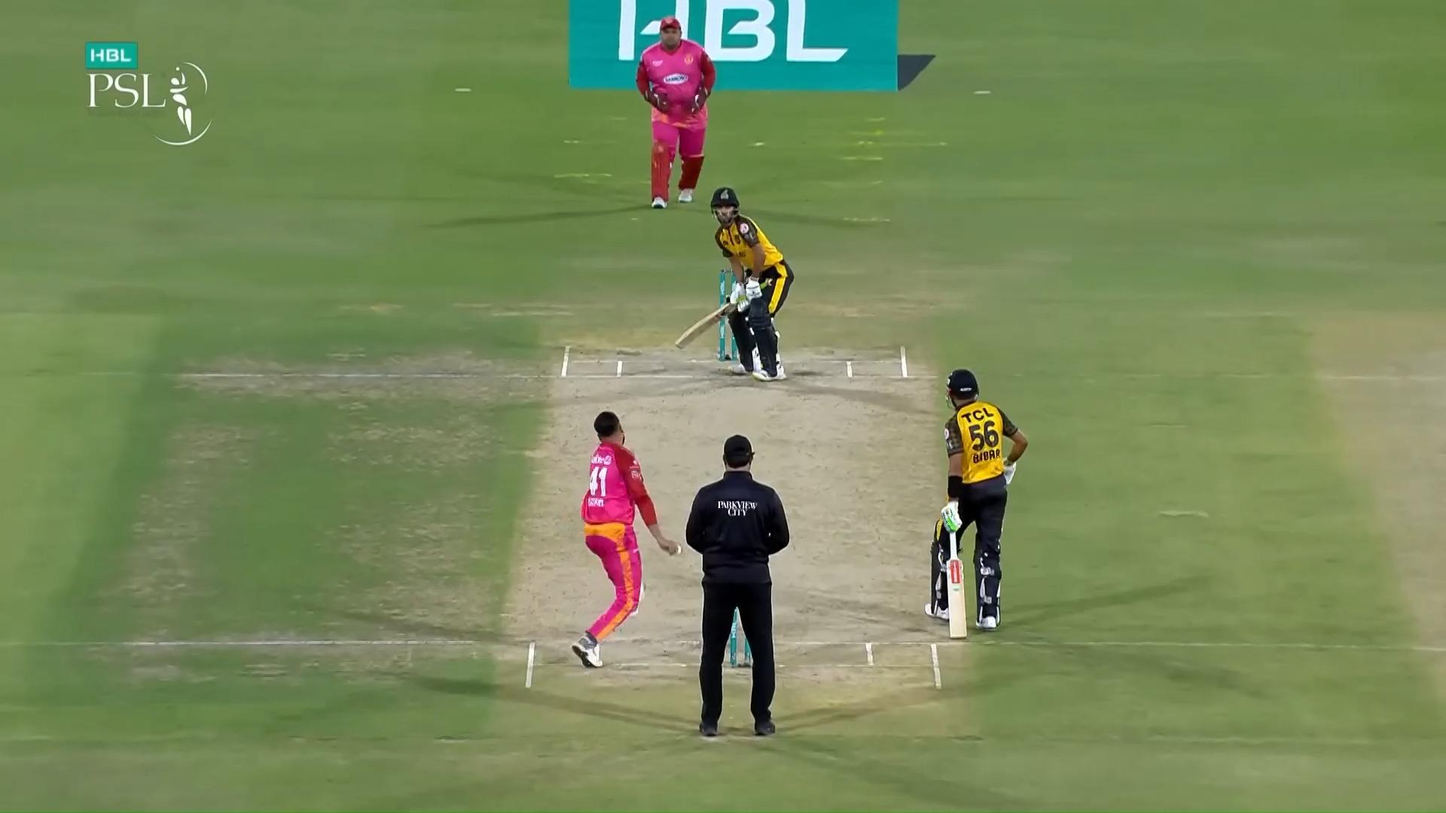batsman: (674, 186, 795, 382)
